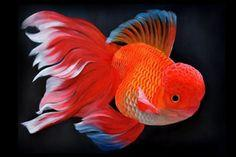goldfish: (48, 30, 215, 140)
